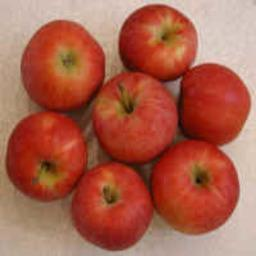apple: (90, 74, 180, 168), (17, 19, 106, 113), (151, 143, 241, 234), (69, 164, 155, 251), (5, 112, 87, 202), (118, 3, 199, 81), (178, 64, 250, 141)
